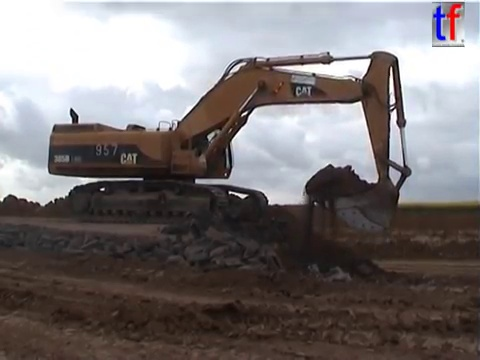excavator: (44, 48, 416, 236)
